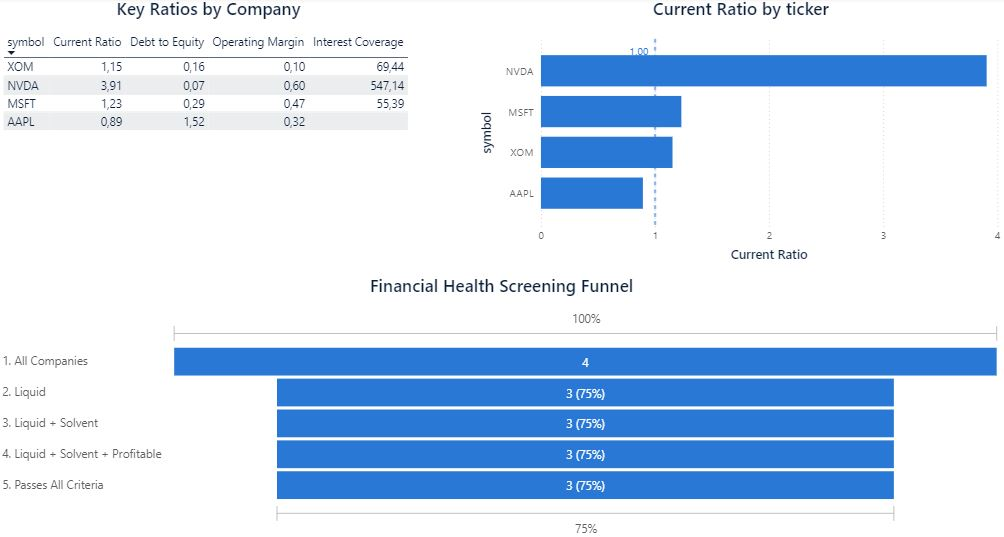

Layout of this report page (visuals, bound fields, positions):
{"tool":"powerbi","page":{"name":"Financial Health Screening","canvas":[1280,720],"ordinal":0},"visuals":[{"type":"tableEx","title":"Key Ratios by Company","fields":{"Values":["BalanceSheets_All.symbol","BalanceSheets_All.Current Ratio","BalanceSheets_All.Debt to Equity","IncomeStatements_All.Operating Margin","IncomeStatements_All.Interest Coverage"]},"box":[9.5,0,530.2,339.3],"z":0},{"type":"funnel","title":"Financial Health Screening Funnel","fields":{"Y":["BalanceSheets_All.1. All Companies","BalanceSheets_All.2. Liquid","BalanceSheets_All.3. Liquid + Solvent","BalanceSheets_All.4. Liquid + Solvent + Profitable","BalanceSheets_All.5. Passes All Criteria"]},"box":[9.5,348.7,1270.2,339.3],"z":1},{"type":"barChart","title":"Current Ratio by ticker","fields":{"Y":["BalanceSheets_All.Current Ratio"],"Category":["BalanceSheets_All.symbol"]},"box":[613.8,0,665.9,339.3],"z":2}]}

Visuals, with their boxes on the page's 1280x720 design canvas (x1, y1, x2, y2). These are canvas units, not pixel positions in the 1004x537 screenshot, which may show the page scaled, cropped or inside an application window:
"Key Ratios by Company" tableEx: [10,0,540,339]
"Financial Health Screening Funnel" funnel: [10,349,1280,688]
"Current Ratio by ticker" barChart: [614,0,1280,339]
